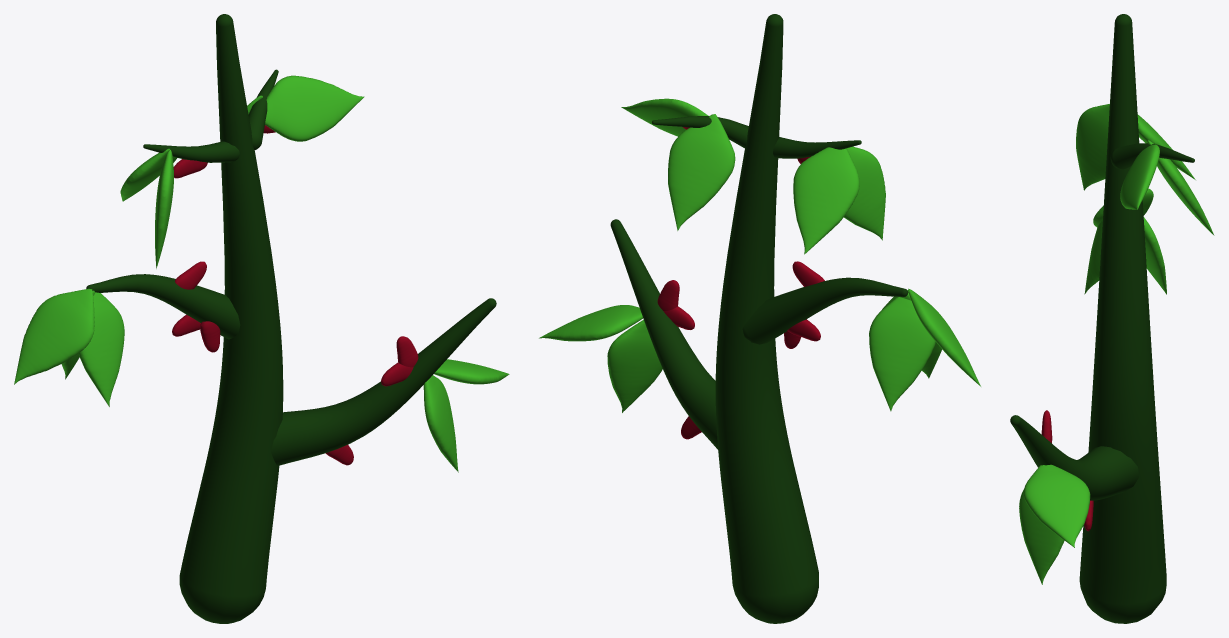
File: Food_Plant.fbx
3 renders of one model, left to right at view 1: azimuth 30°, elevation 25°; view 2: azimuth 150°, elevation 25°; view 3: azimuth 270°, elevation 25°, orthographic.
Visible parts, largest first — view 1: node_id114 (×5), root (×7); view 2: node_id114 (×5), root (×8); view 3: node_id114 (×3), root (×9).
Boxes of the visible parts, box(x1,y1,x2,y2) form: node_id114 (×5): box(86, 14, 496, 623); root (×7): box(14, 75, 509, 472); node_id114 (×5): box(610, 14, 908, 623); root (×8): box(539, 98, 980, 412); node_id114 (×3): box(1010, 14, 1194, 623); root (×9): box(1019, 104, 1214, 584).
Bounding box in the file's own units: 0.4784 × 0.5885 × 0.1799.
8 materials, 8 textured.
